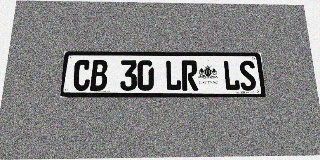0: (137, 60, 153, 91)
3: (120, 60, 137, 91)
B: (90, 60, 108, 91)
C: (72, 60, 91, 91)
L: (165, 60, 182, 91), (223, 61, 240, 91)
R: (181, 60, 198, 91)
S: (239, 61, 257, 91)
